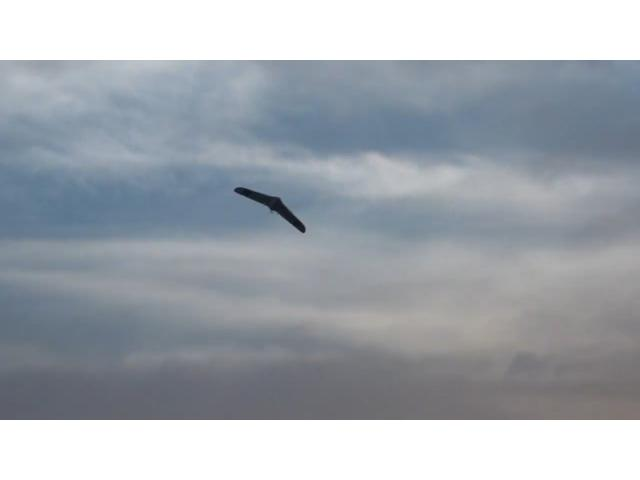Anti-Drone: (234, 188, 306, 232)
